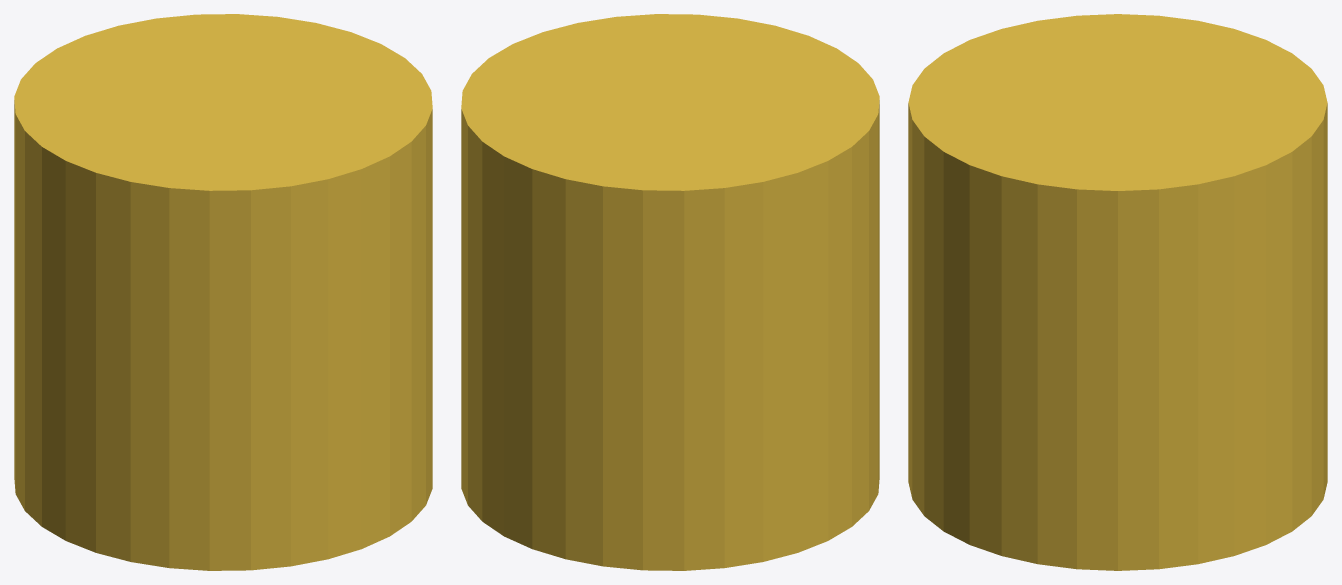
File: cyl.gltf
The picture shows the model from 3 angles, left to right: view 1: azimuth 30°, elevation 25°; view 2: azimuth 150°, elevation 25°; view 3: azimuth 270°, elevation 25°; orthographic projection.
Parts seen in each view (by area): view 1: Cylinder; view 2: Cylinder; view 3: Cylinder.
Part boxes in pixels (x1=…): Cylinder: x1=14, y1=14, x2=432, y2=570; Cylinder: x1=461, y1=14, x2=879, y2=570; Cylinder: x1=908, y1=14, x2=1327, y2=570.
Bounding box in the file's own units: 2 × 2 × 2.
